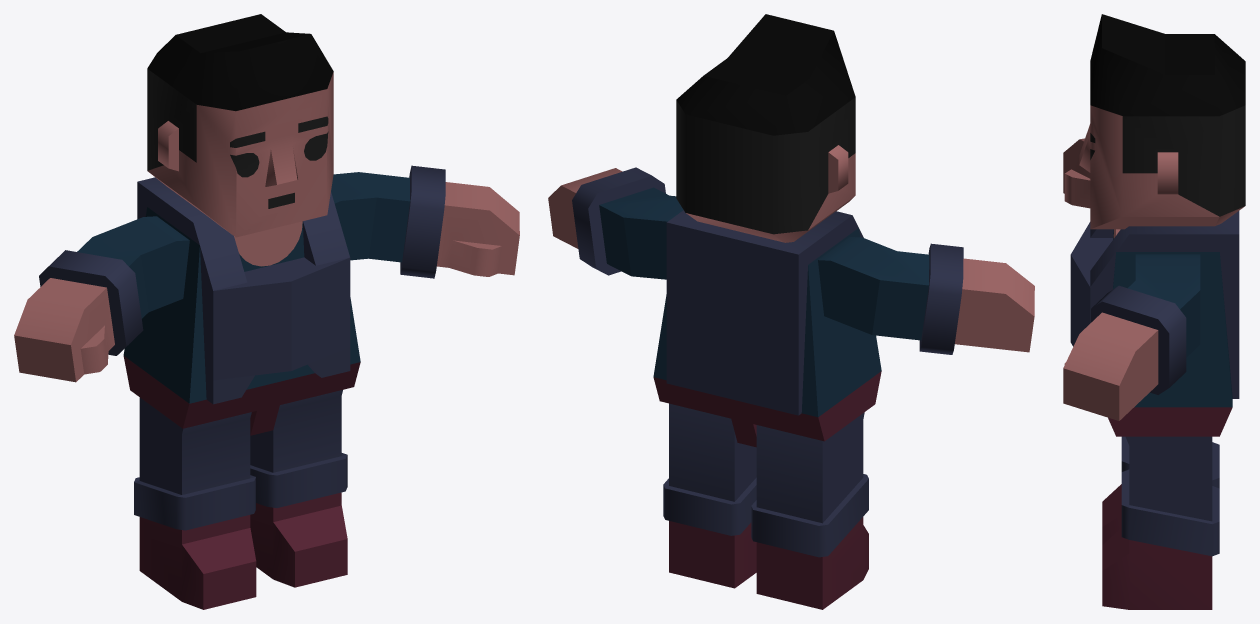
Rendered from Character.fbx.
3 views of the same model, side by side, from view 1: azimuth 30°, elevation 25°; view 2: azimuth 150°, elevation 25°; view 3: azimuth 270°, elevation 25° (orthographic). The views are drawn at different scales.
Parts seen in each view (by area): view 1: leg_default (×2), arm_default (×2), armor_torso, head_feminine, torso_default, hair_crest; view 2: leg_default (×2), arm_default (×2), armor_torso, head_feminine, hair_crest, torso_default; view 3: leg_default (×2), head_feminine, arm_default (×2), hair_crest, torso_default, armor_torso.
Boxes of the visible parts, x1,y1,x2,y2 form: leg_default (×2): (134,390,347,609); arm_default (×2): (14,165,519,382); armor_torso: (137,177,350,404); head_feminine: (147,69,333,237); torso_default: (123,207,360,435); hair_crest: (147,14,333,111); leg_default (×2): (663,403,868,609); arm_default (×2): (548,167,1034,354); armor_torso: (666,210,863,415); head_feminine: (676,97,855,242); hair_crest: (676,14,855,135); torso_default: (653,228,881,447); leg_default (×2): (1102,436,1219,609); head_feminine: (1079,105,1245,229); arm_default (×2): (1063,138,1200,420); hair_crest: (1090,14,1245,116); torso_default: (1108,229,1232,436); armor_torso: (1070,211,1239,398).
Bounding box in the file's own units: 8.85 × 9.2 × 2.82.
